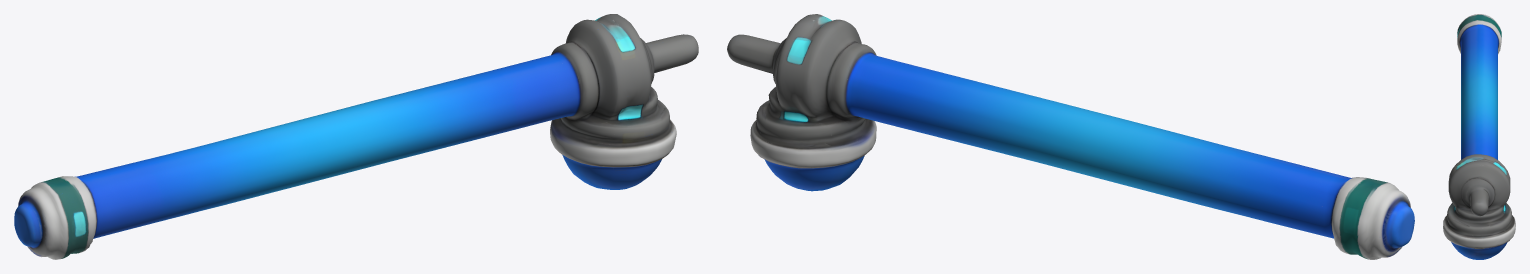
The model's file is Limited Rotator - A_texture.fbx.
The picture shows the model from 3 angles, left to right: view 1: azimuth 30°, elevation 25°; view 2: azimuth 150°, elevation 25°; view 3: azimuth 270°, elevation 25°; orthographic projection. The views are drawn at different scales.
Parts seen in each view (by area): view 1: Mesh0; view 2: Mesh0; view 3: Mesh0.
Boxes of the visible parts, bbox=[...] form: Mesh0: bbox=[14, 14, 698, 259]; Mesh0: bbox=[727, 14, 1414, 259]; Mesh0: bbox=[1443, 14, 1515, 259].
Size of the model in its own units: 192 by 44.89 by 30.52.
Materials: 1 (1 with a texture image).
